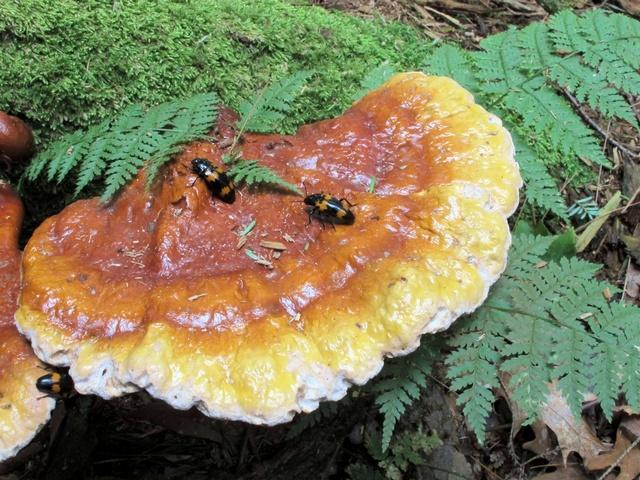poisonous_mushroom: (0, 58, 532, 478)
